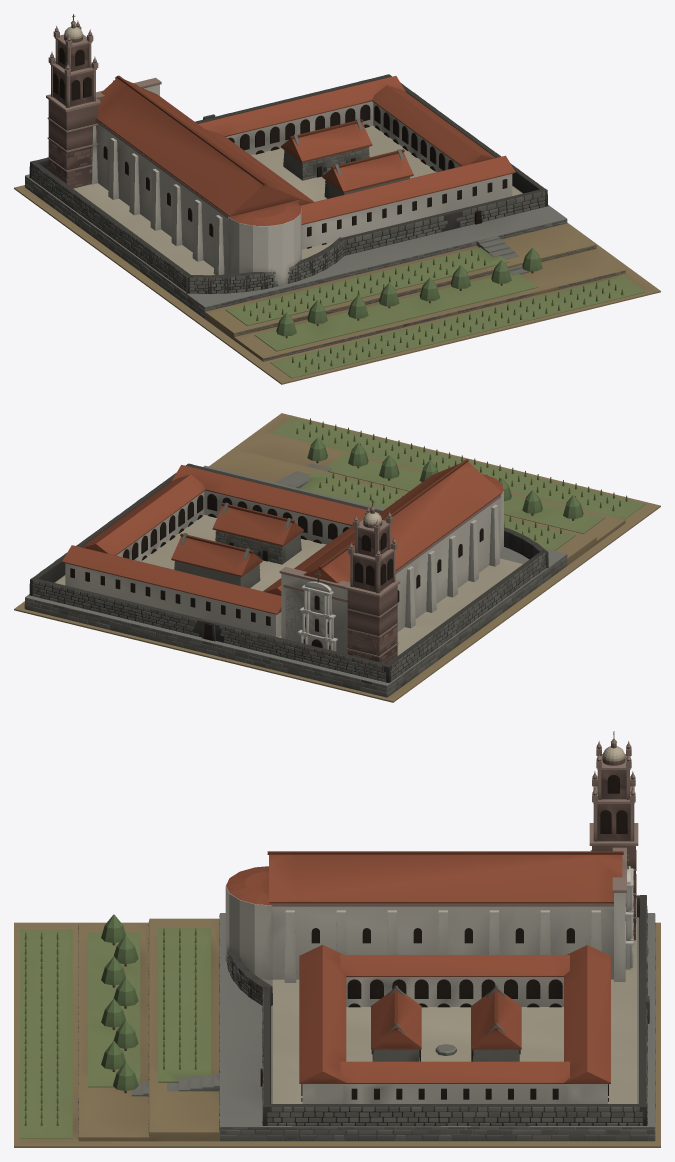
The model's file is santo-domingo.glb.
3 renders of one model, top to bottom at view 1: azimuth 30°, elevation 25°; view 2: azimuth 150°, elevation 25°; view 3: azimuth 270°, elevation 25°, orthographic. The views are drawn at different scales.
Parts seen in each view (by area): view 1: p0_platform, p2_church, p1_inca walls, p3_tower; view 2: p2_church, p1_inca walls, p0_platform, p3_tower; view 3: p2_church, p0_platform, p1_inca walls, p3_tower.
Part boxes in pixels (<box>): p0_platform: <box>14,174,660,384</box>; p2_church: <box>91,75,515,286</box>; p1_inca walls: <box>29,74,623,372</box>; p3_tower: <box>46,14,100,188</box>; p2_church: <box>62,459,503,654</box>; p1_inca walls: <box>29,418,627,682</box>; p0_platform: <box>14,413,660,702</box>; p3_tower: <box>345,499,400,663</box>; p2_church: <box>225,847,633,1083</box>; p0_platform: <box>14,913,660,1147</box>; p1_inca walls: <box>24,895,649,1126</box>; p3_tower: <box>589,731,638,940</box>.
Size of the model in its own units: 90 by 40.65 by 110.
